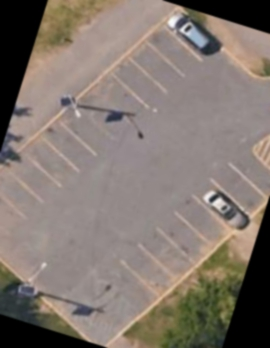parkingspot: (0, 5, 228, 251), (114, 140, 270, 303)
